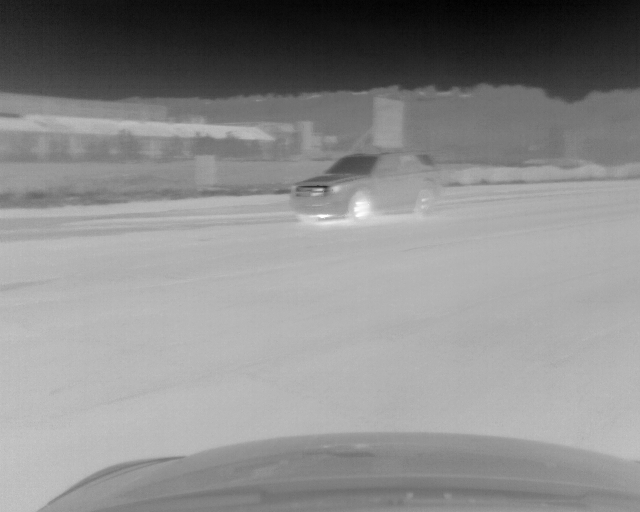car: (289, 151, 438, 222)
